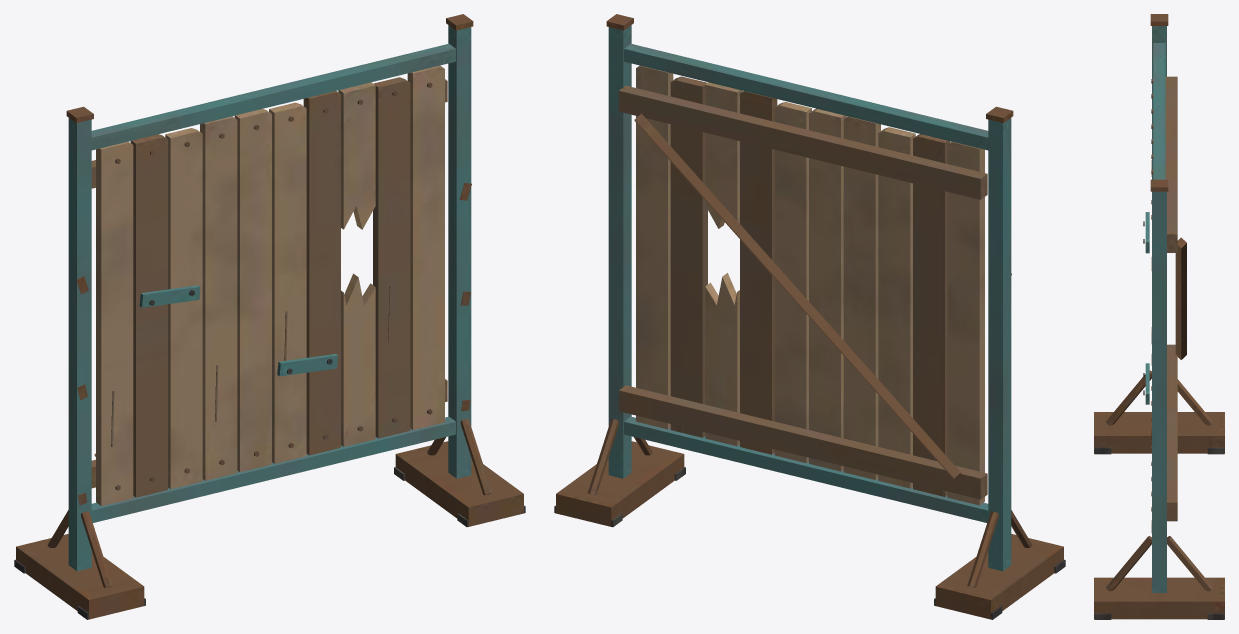
Rendered from CS20_fence_panels_v2.glb.
3 views of the same model, side by side, from view 1: azimuth 30°, elevation 25°; view 2: azimuth 150°, elevation 25°; view 3: azimuth 270°, elevation 25° (orthographic). The views are drawn at different scales.
Parts seen in each view (by area): view 1: Teal_Broken_Timber_Site_Fence; view 2: Teal_Broken_Timber_Site_Fence; view 3: Teal_Broken_Timber_Site_Fence.
Part boxes in pixels (x1,y1,x2,y2): Teal_Broken_Timber_Site_Fence: (14,14,525,619); Teal_Broken_Timber_Site_Fence: (554,14,1065,619); Teal_Broken_Timber_Site_Fence: (1094,14,1224,619).
Size of the model in its own units: 1.94 by 2 by 0.5591.
Materials: 6 (6 with a texture image).
